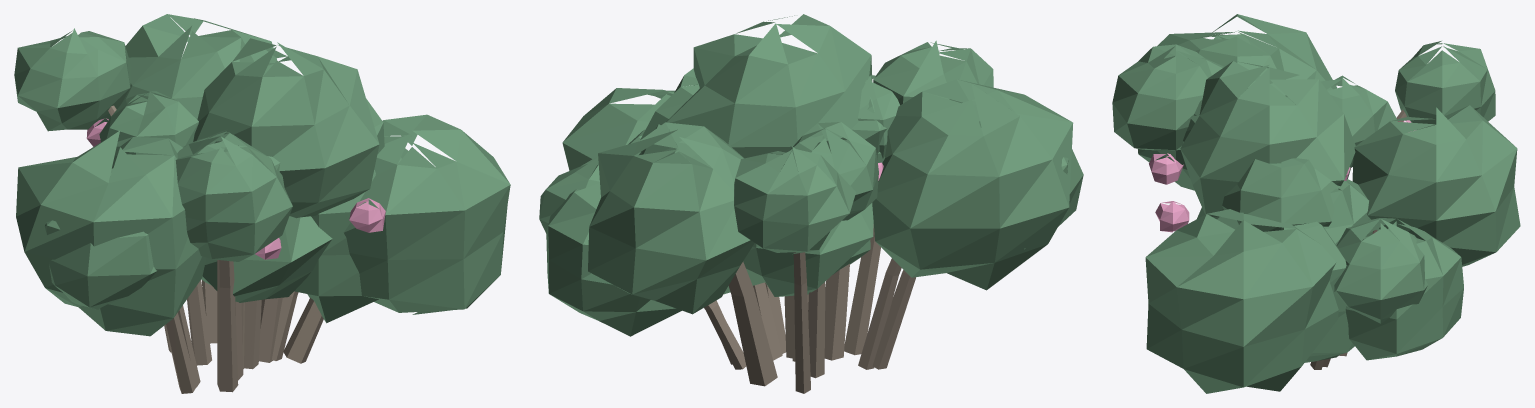
Rendered from temperate-forest-ecology-rhododendron-clump-cc7dbb0b__3840.glb.
3 renders of one model, left to right at view 1: azimuth 30°, elevation 25°; view 2: azimuth 150°, elevation 25°; view 3: azimuth 270°, elevation 25°, orthographic. The views are drawn at different scales.
Visible parts, largest first — view 1: rhododendron-clump; view 2: rhododendron-clump; view 3: rhododendron-clump.
Boxes of the visible parts, bbox=[...] form: rhododendron-clump: bbox=[14, 14, 510, 393]; rhododendron-clump: bbox=[539, 14, 1083, 393]; rhododendron-clump: bbox=[1112, 14, 1520, 393].
Size of the model in its own units: 6.42 by 4.09 by 5.03.
